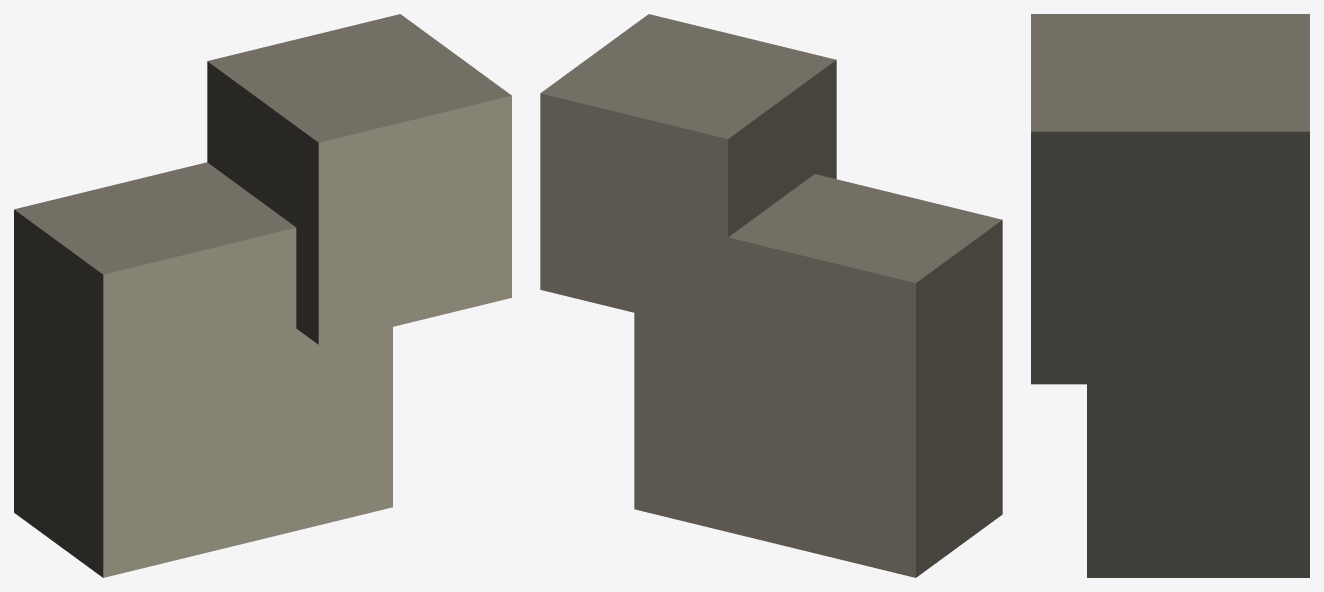
3 views of the same model, side by side, from view 1: azimuth 30°, elevation 25°; view 2: azimuth 150°, elevation 25°; view 3: azimuth 270°, elevation 25° (orthographic). The views are drawn at different scales.
Parts seen in each view (by area): view 1: Rock.0; view 2: Rock.0; view 3: Rock.0.
Part boxes in pixels (box(x1,y1,x2,y2)): Rock.0: box(14, 14, 511, 577); Rock.0: box(540, 14, 1002, 577); Rock.0: box(1031, 14, 1309, 577).
Bounding box in the file's own units: 1 × 1 × 0.5.
